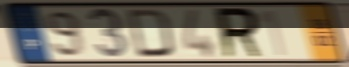1: (258, 9, 288, 57)
3: (86, 5, 130, 62)
4: (182, 7, 218, 60)
9: (46, 10, 88, 58)
D: (125, 7, 177, 60)
R: (213, 6, 267, 61)
